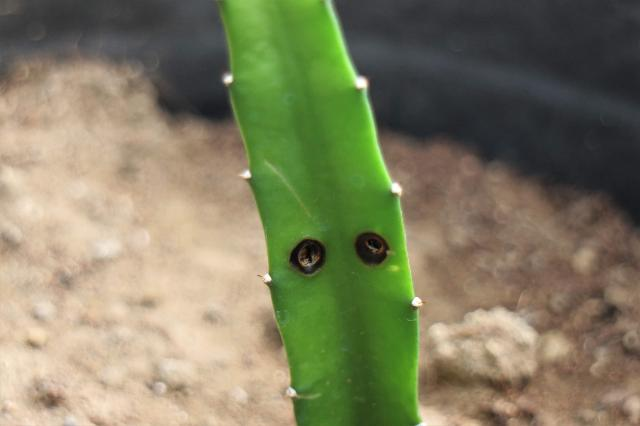stemcanker: (270, 208, 401, 292)
